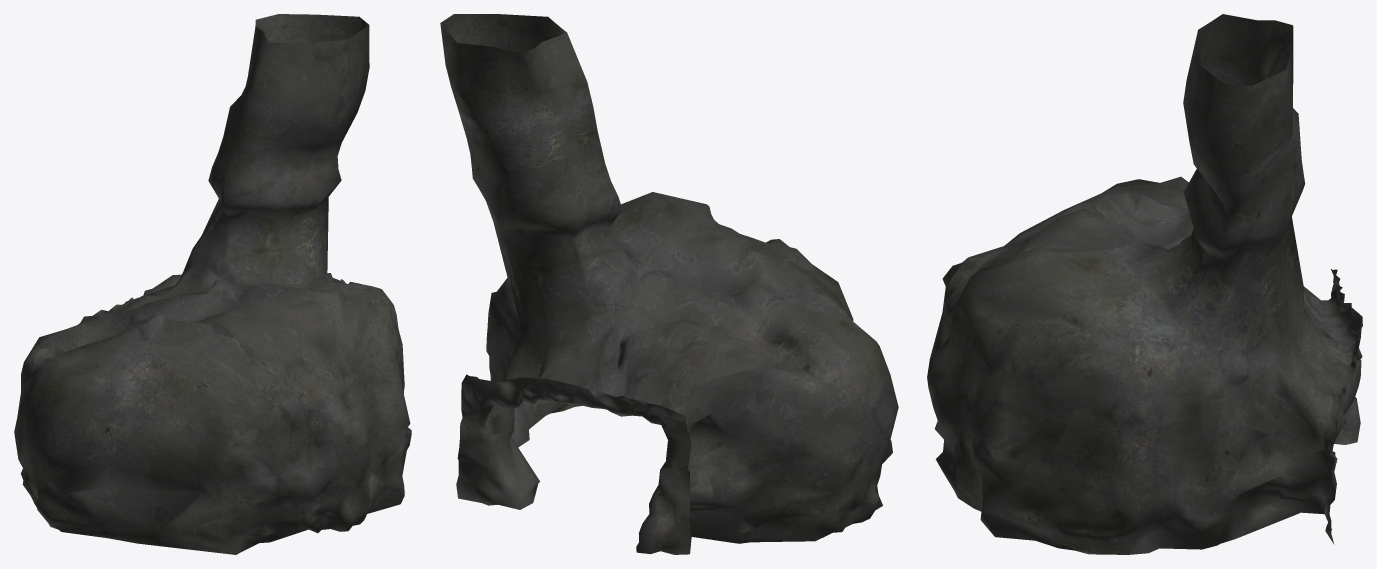
Rendered from rock_forest_caveroom.DAE.
3 views of the same model, side by side, from view 1: azimuth 30°, elevation 25°; view 2: azimuth 150°, elevation 25°; view 3: azimuth 270°, elevation 25° (orthographic). The views are drawn at different scales.
Visible parts, largest first — view 1: tunnel_Rock01 (2); view 2: tunnel_Rock01 (2); view 3: tunnel_Rock01 (2).
Boxes of the visible parts, x1,y1,x2,y2 form: tunnel_Rock01 (2): (14, 14, 411, 554); tunnel_Rock01 (2): (440, 14, 898, 554); tunnel_Rock01 (2): (927, 14, 1362, 554).
Size of the model in its own units: 18.44 by 19.53 by 15.41.
